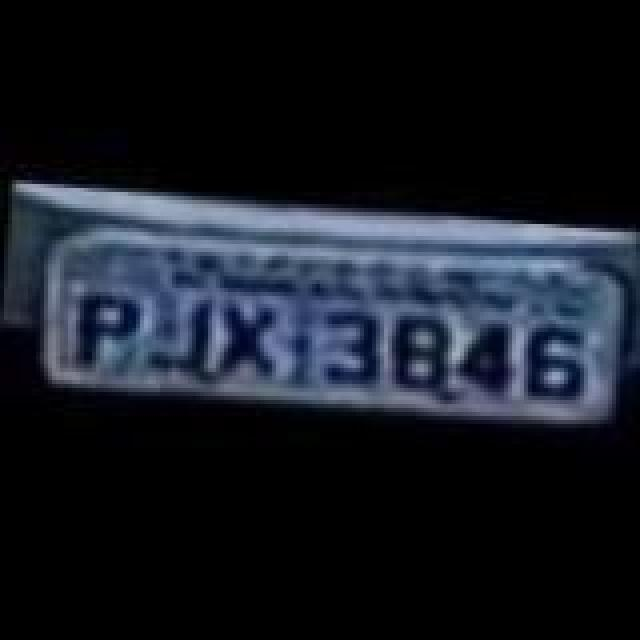3: (312, 302, 384, 398)
4: (454, 320, 522, 400)
6: (512, 312, 592, 408)
8: (380, 306, 460, 398)
J: (140, 290, 212, 382)
P: (68, 282, 140, 382)
X: (208, 292, 288, 388)
